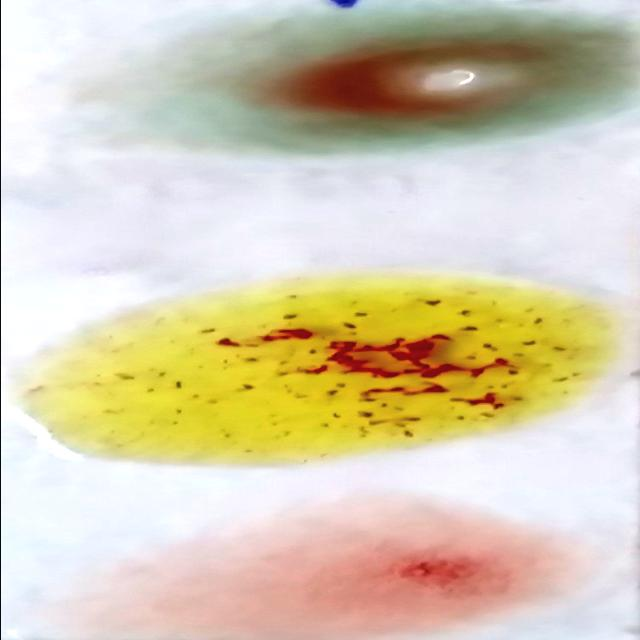B: (28, 297, 600, 444)
D: (222, 516, 534, 616)
